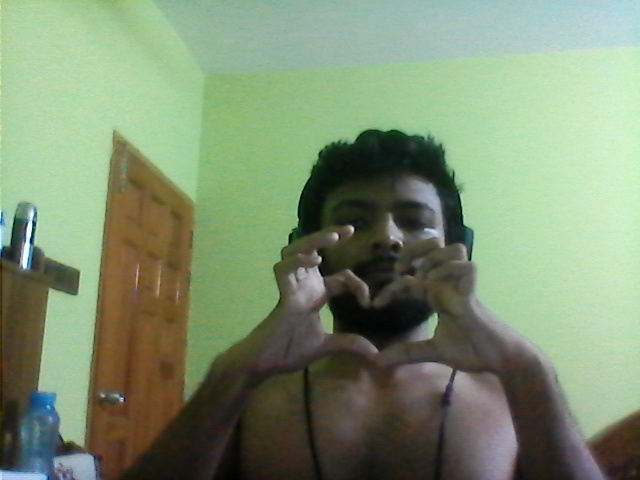Love: (239, 234, 514, 380)
